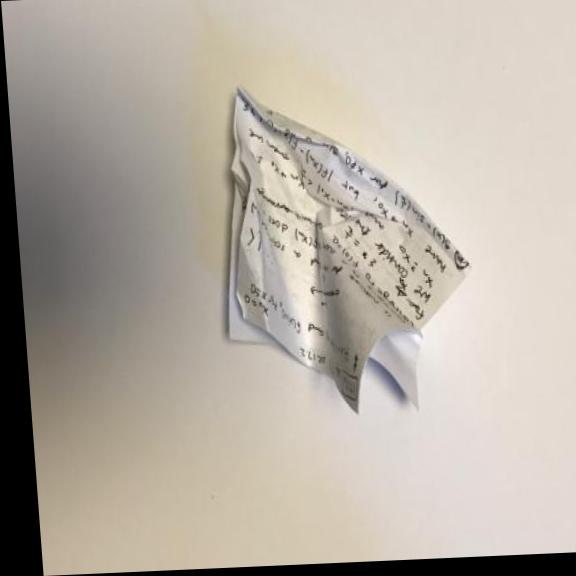Kertas: (198, 72, 485, 427)
